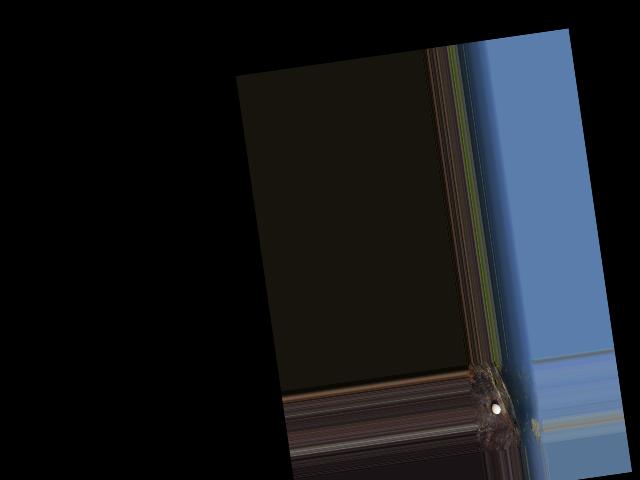egg: (491, 403, 501, 415)
